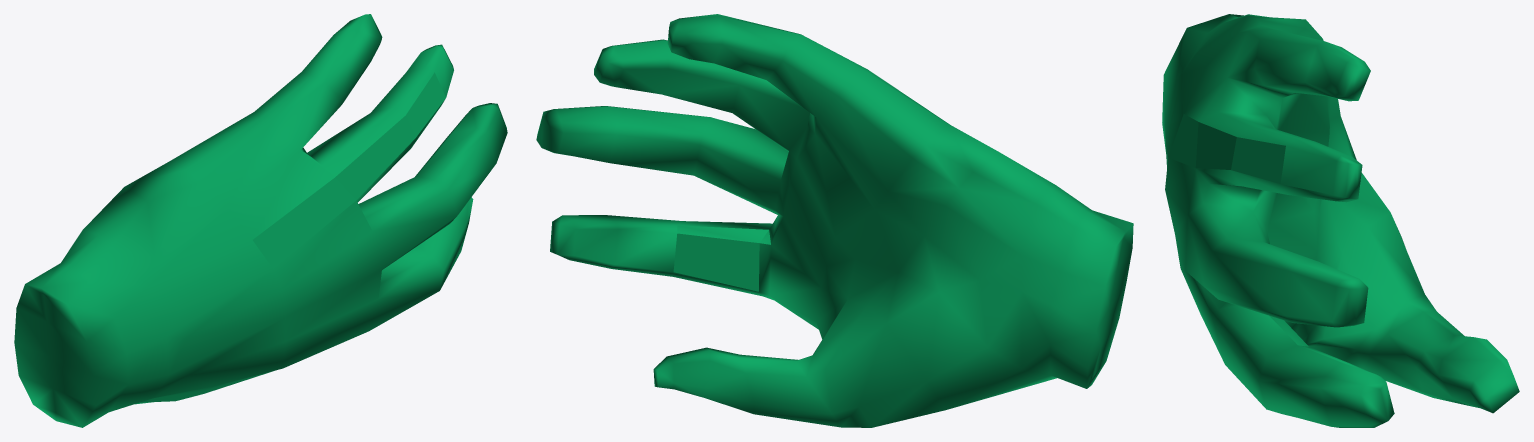
The model's file is bea_left_hand_new.obj.
3 views of the same model, side by side, from view 1: azimuth 30°, elevation 25°; view 2: azimuth 150°, elevation 25°; view 3: azimuth 270°, elevation 25° (orthographic). The views are drawn at different scales.
Visible parts, largest first — view 1: hands:Lhand; view 2: hands:Lhand; view 3: hands:Lhand.
Part boxes in pixels (bbox=[...]): hands:Lhand: bbox=[14, 14, 507, 427]; hands:Lhand: bbox=[536, 14, 1133, 427]; hands:Lhand: bbox=[1162, 14, 1519, 427].
Size of the model in its own units: 0.197 by 0.1212 by 0.0947.
